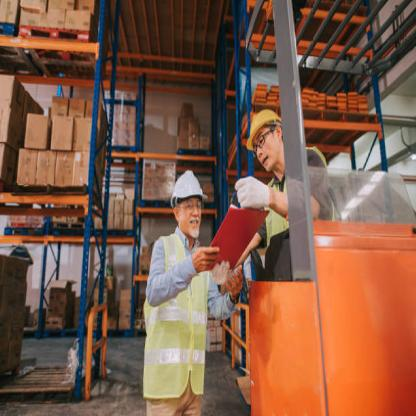capacete: (245, 110, 283, 154), (168, 169, 207, 209)
oculos: (178, 196, 206, 216)
